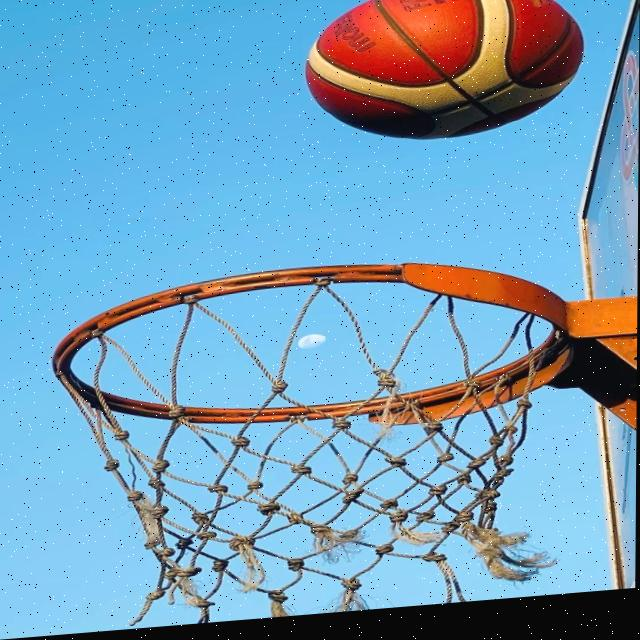hoop: (54, 213, 638, 625)
